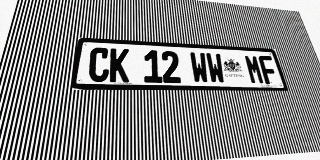1: (143, 50, 163, 83)
2: (161, 51, 181, 83)
C: (88, 47, 110, 82)
F: (258, 55, 280, 84)
K: (109, 48, 129, 82)
M: (244, 55, 265, 84)
W: (189, 52, 210, 83), (205, 53, 226, 84)
